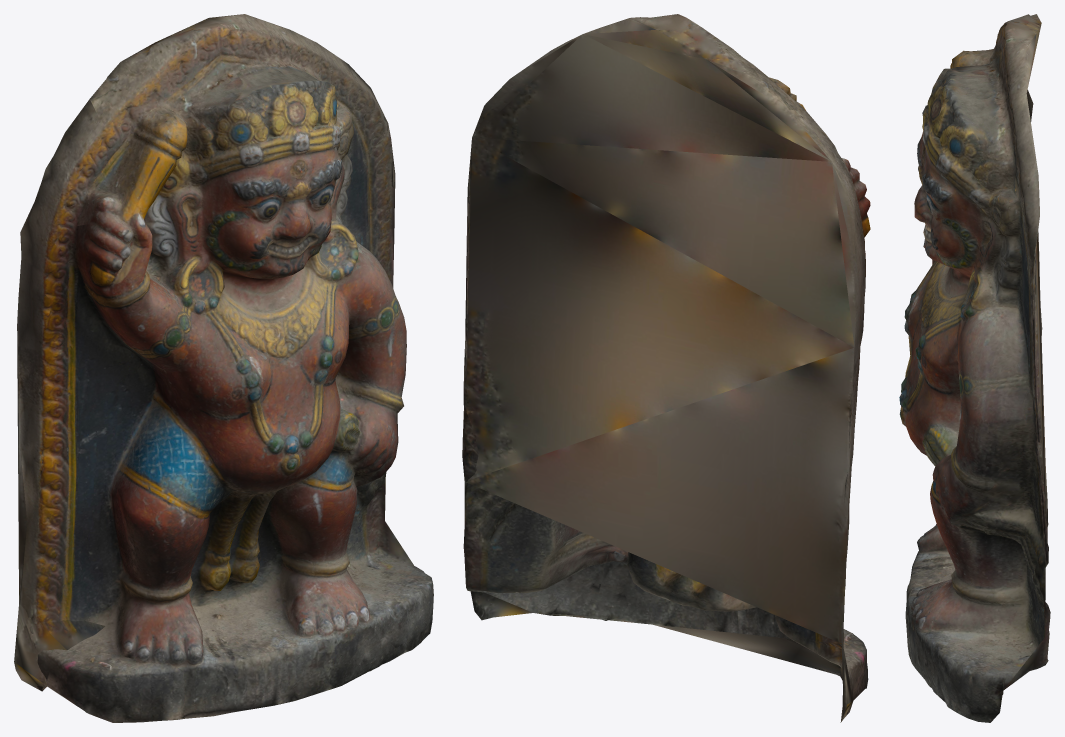
File: kala_bhairava_w_2_lod_-_nepal_heritage.glb
The picture shows the model from 3 angles, left to right: view 1: azimuth 30°, elevation 25°; view 2: azimuth 150°, elevation 25°; view 3: azimuth 270°, elevation 25°; orthographic projection. The views are drawn at different scales.
Parts seen in each view (by area): view 1: Object_2; view 2: Object_2; view 3: Object_2.
Part boxes in pixels (bbox=[...]): Object_2: bbox=[14, 14, 433, 722]; Object_2: bbox=[462, 14, 870, 722]; Object_2: bbox=[899, 14, 1050, 722].
Bounding box in the file's own units: 28.29 × 44.6 × 10.06.
1 material, 1 textured.
